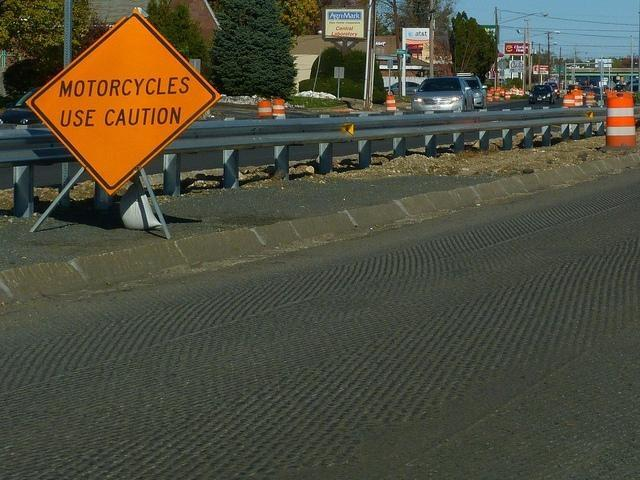car: (410, 75, 476, 113), (1, 87, 48, 125), (458, 74, 486, 108), (528, 84, 553, 108), (626, 80, 639, 92), (613, 84, 630, 92), (604, 85, 611, 92)
